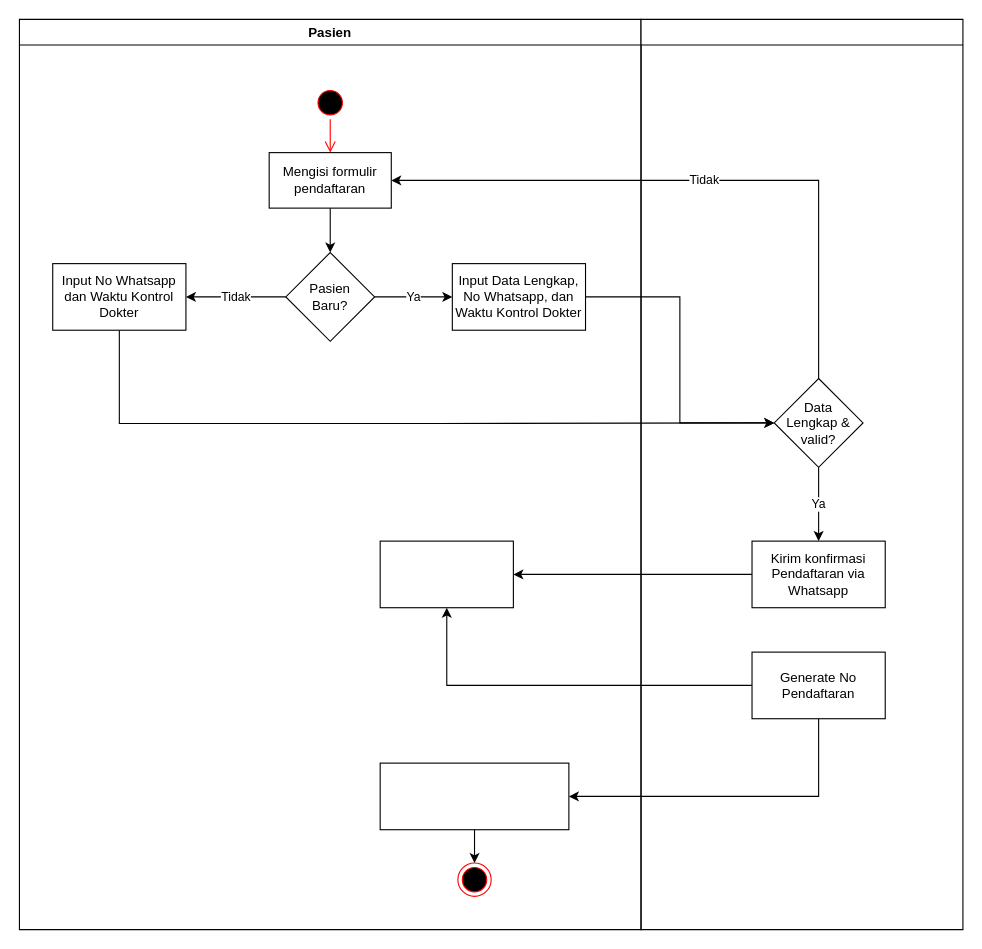
Some shapes in this 982 by 949 pixel diagram are drawn without their labels. The shapes that lost their labels are listed below. From the top down, each one's centre as x and y in pixels, then its label:
At (x=801, y=474): "Sistem".
At (x=446, y=574): "Konfirmasi via Whatsapp".
At (x=474, y=796): "Melihat halaman konfirmasi (No Pendaftaran & informasi lainnya)".
